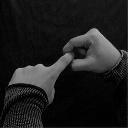hand: (7, 50, 74, 104), (62, 27, 121, 74)
